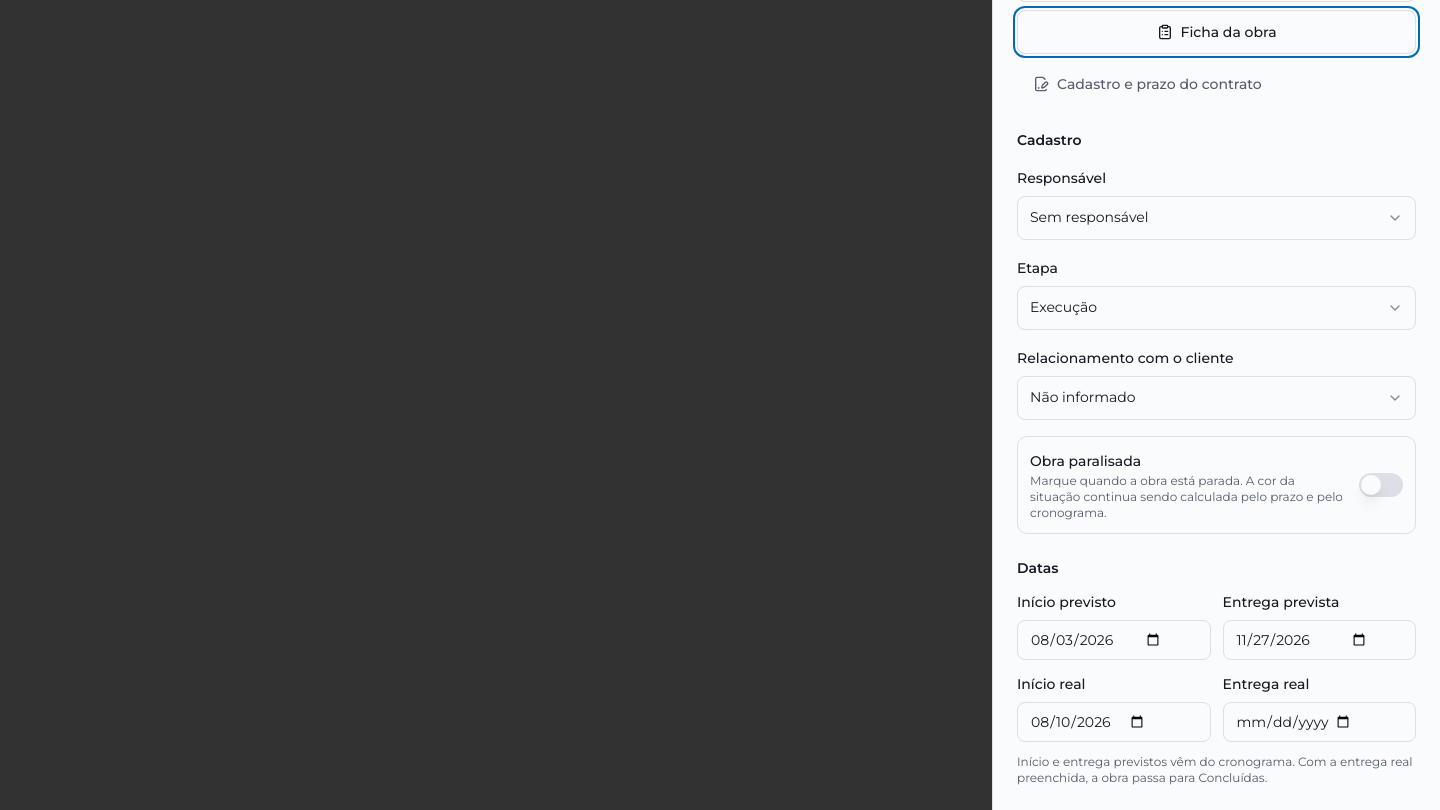
Scenario: ObraDrawer › entrega real futura é recusada e o campo volta
(page scrolled)
In the date field labelled "Entrega real": (1319, 722) [1222,702,1416,742], type "2026-10-20"
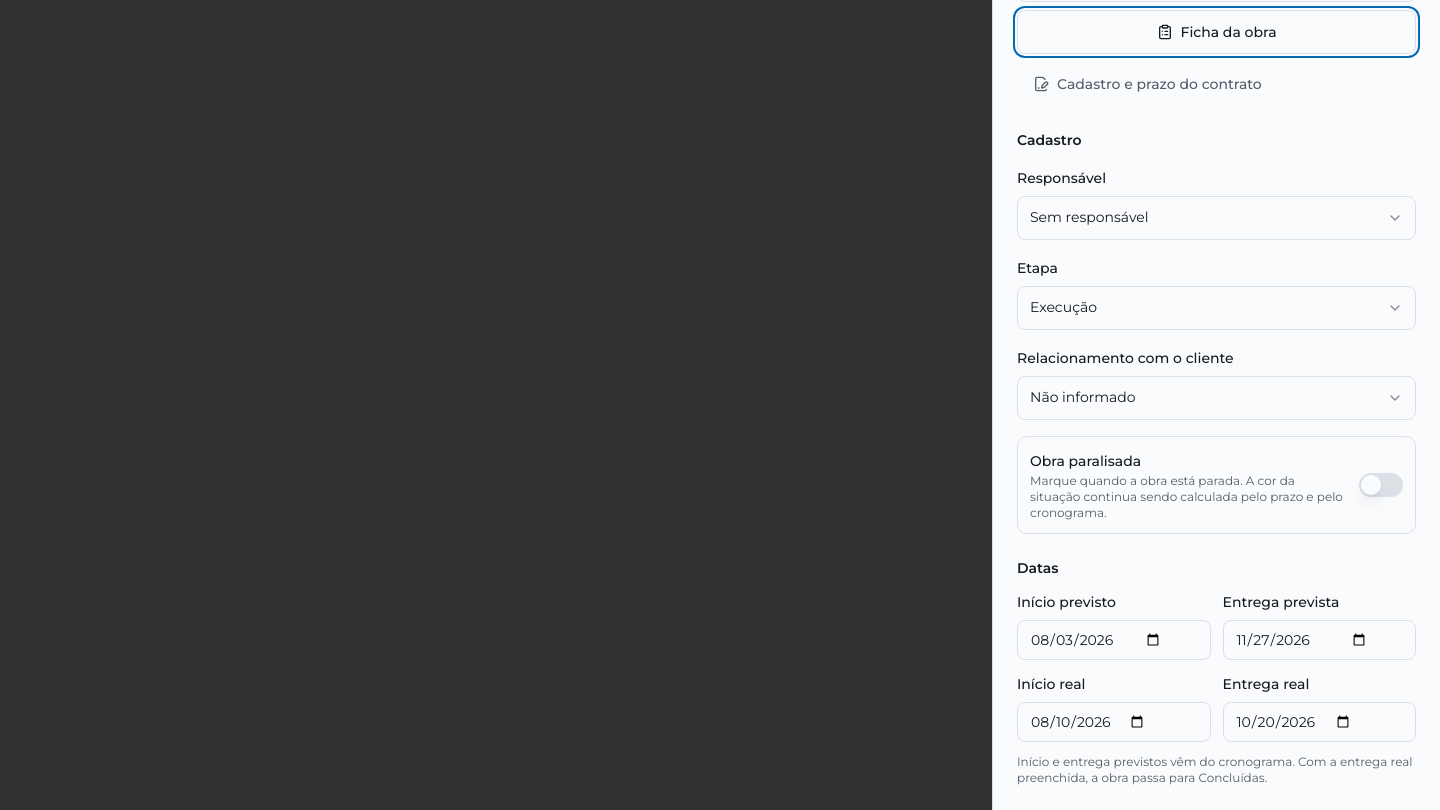
Leave the date field labelled "Entrega real", box [1222,702,1416,742]
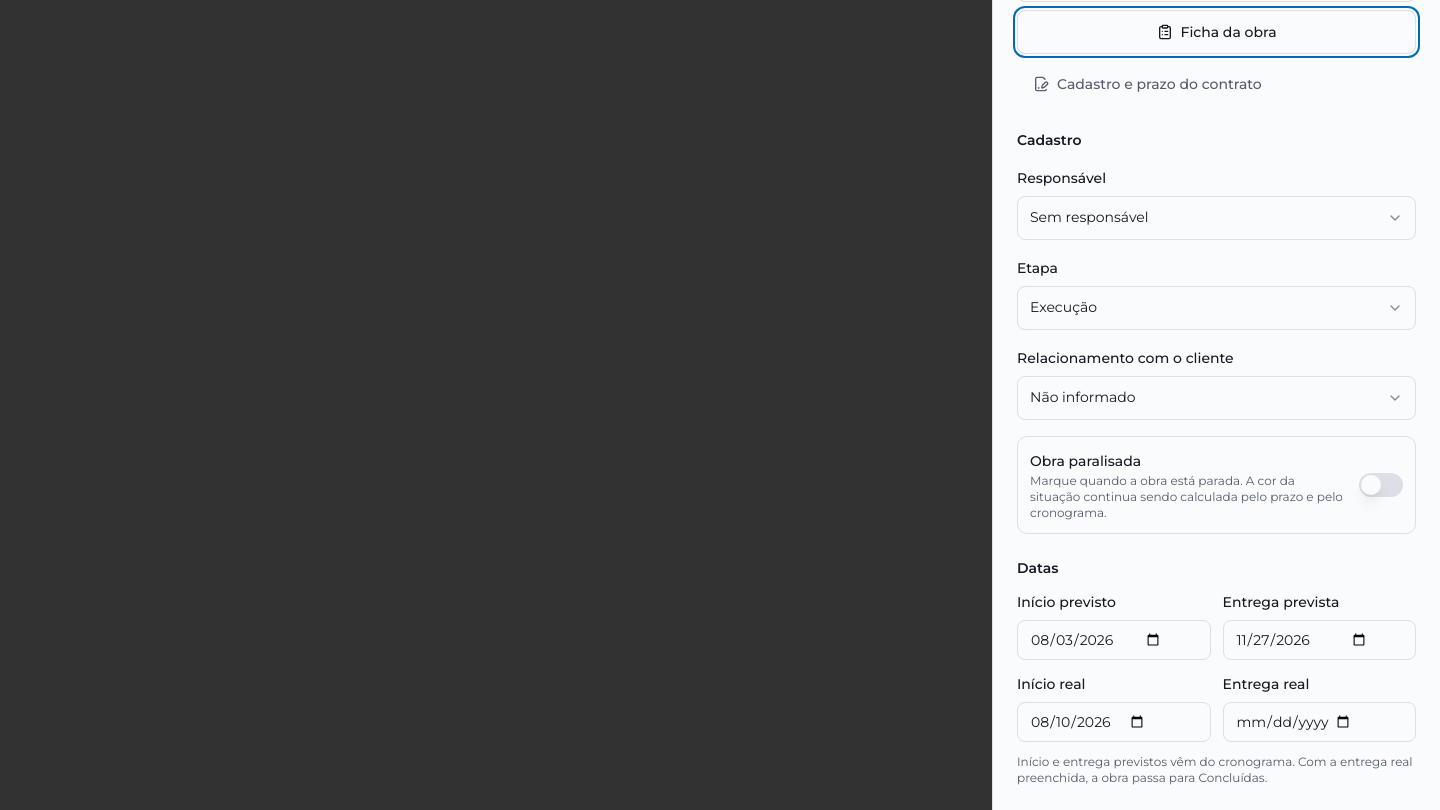
Expected: the date field labelled "Entrega real" is empty, [1222,702,1416,742]
